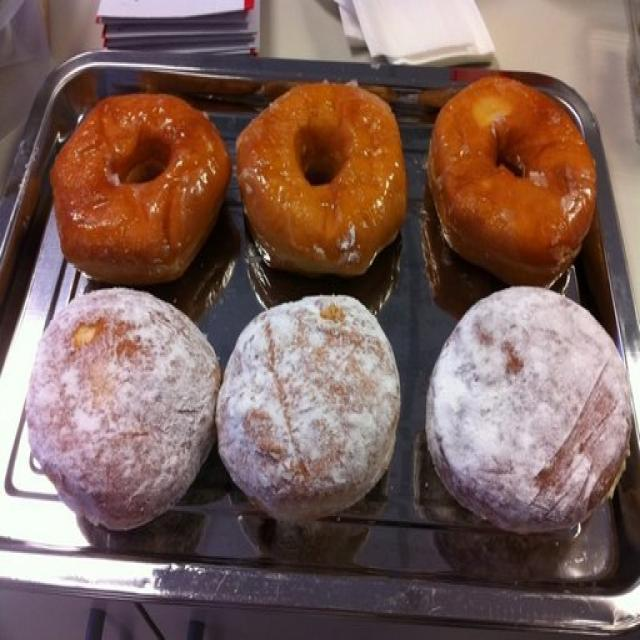Donuts: (27, 76, 635, 540)
